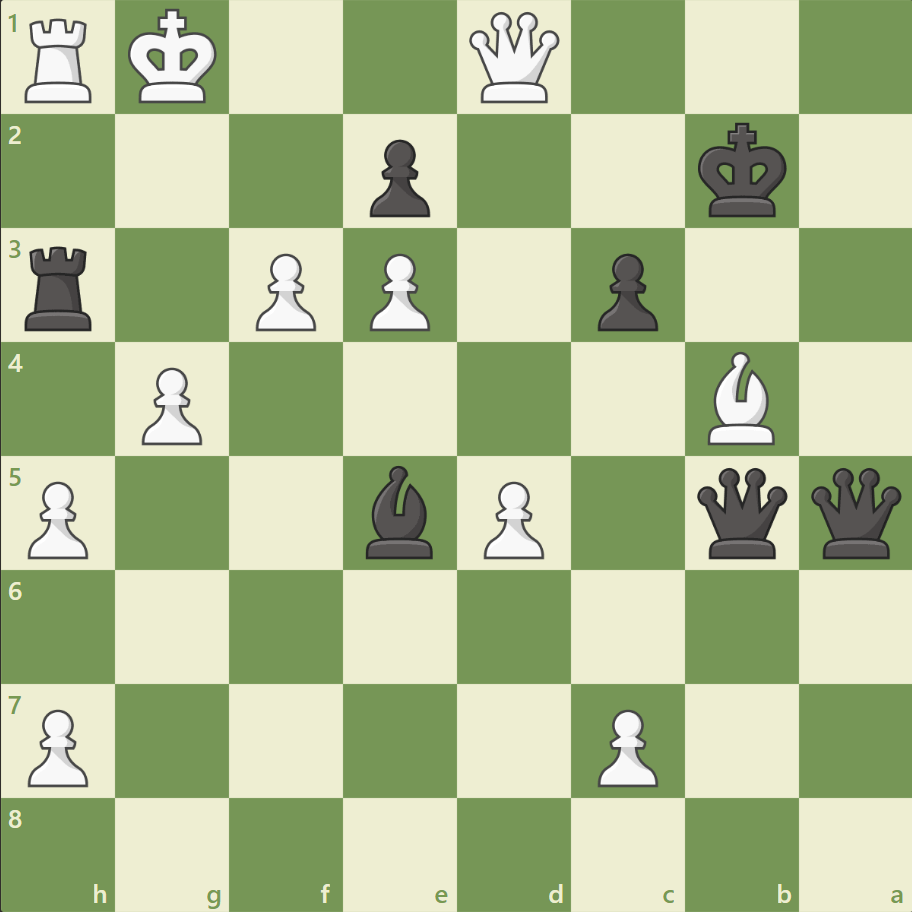B: (698, 347, 782, 449)
K: (124, 4, 224, 112)
P: (20, 700, 95, 791), (474, 473, 549, 564), (20, 473, 95, 564), (133, 359, 208, 450), (247, 246, 322, 337), (588, 700, 662, 791), (361, 246, 435, 337)
Q: (464, 9, 563, 108)
R: (19, 12, 102, 109)
b: (358, 460, 442, 563)
k: (692, 117, 792, 225)
p: (588, 246, 662, 337), (361, 132, 435, 223)
q: (805, 463, 904, 562), (691, 463, 790, 562)
r: (19, 239, 102, 336)
